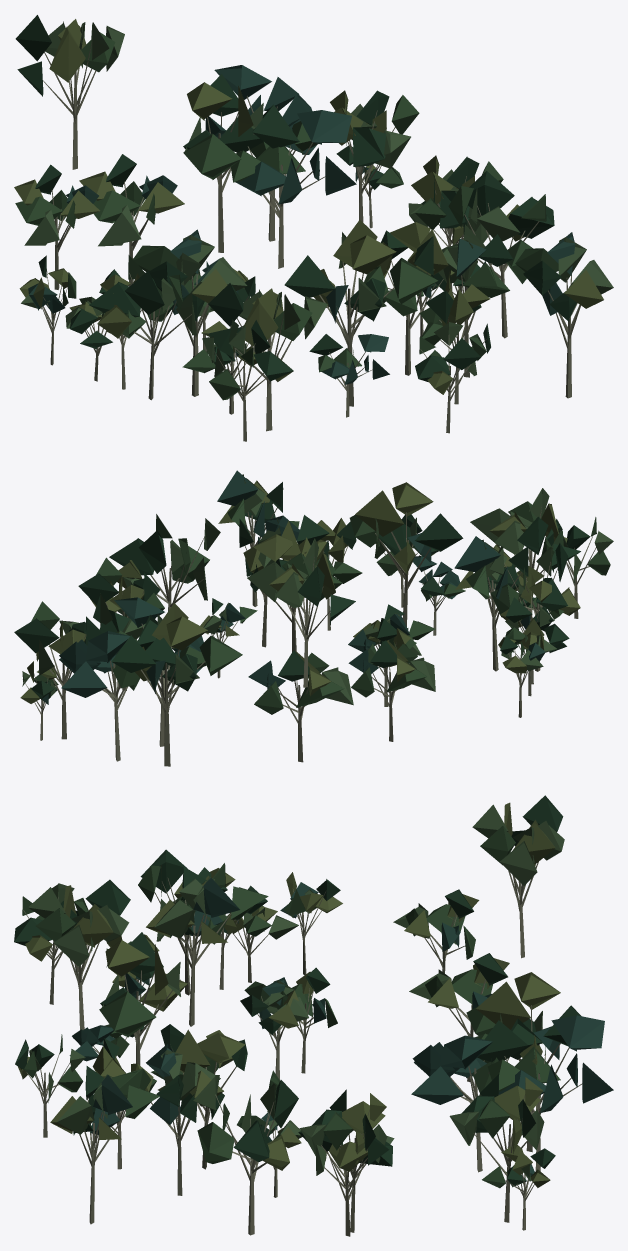
File: forest_25_23.dae
The picture shows the model from 3 angles, top to bottom: view 1: azimuth 30°, elevation 25°; view 2: azimuth 150°, elevation 25°; view 3: azimuth 270°, elevation 25°; orthographic projection. The views are drawn at different scales.
Parts seen in each view (by area): view 1: Node; view 2: Node; view 3: Node.
Boxes of the visible parts, x1,y1,x2,y2 form: Node: [14, 15, 613, 441]; Node: [14, 470, 613, 766]; Node: [14, 795, 613, 1236].
Size of the model in its own units: 11.02 by 11.35 by 6.08.
